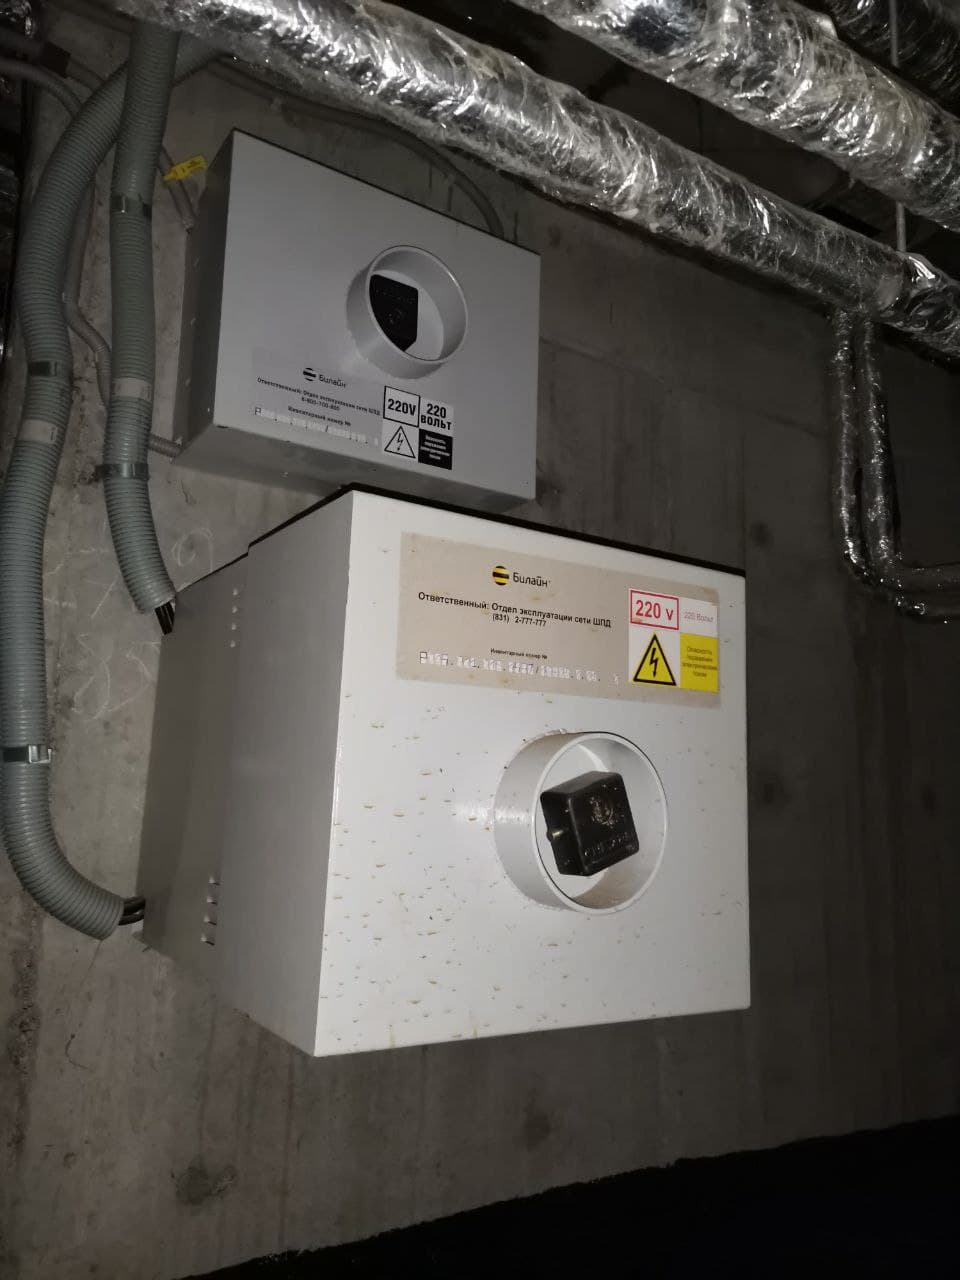shta-3: (172, 125, 546, 514)
shta-9: (128, 490, 755, 1061)
